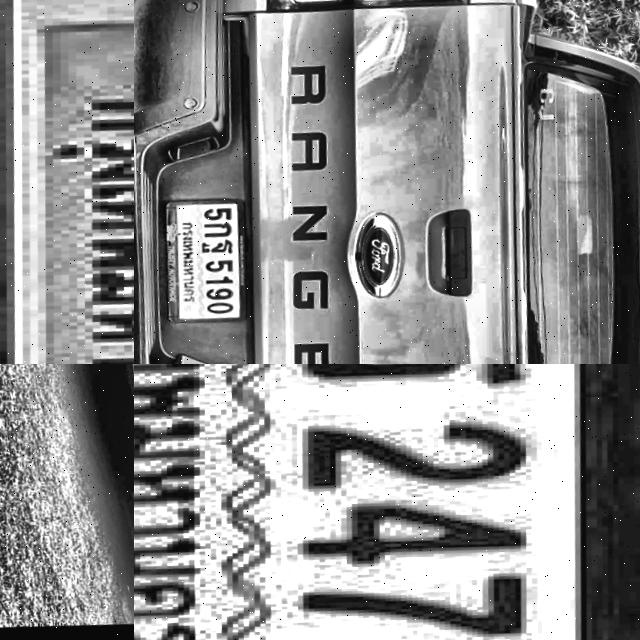license-plate: (134, 364, 640, 640), (0, 0, 134, 364), (145, 191, 251, 333)
